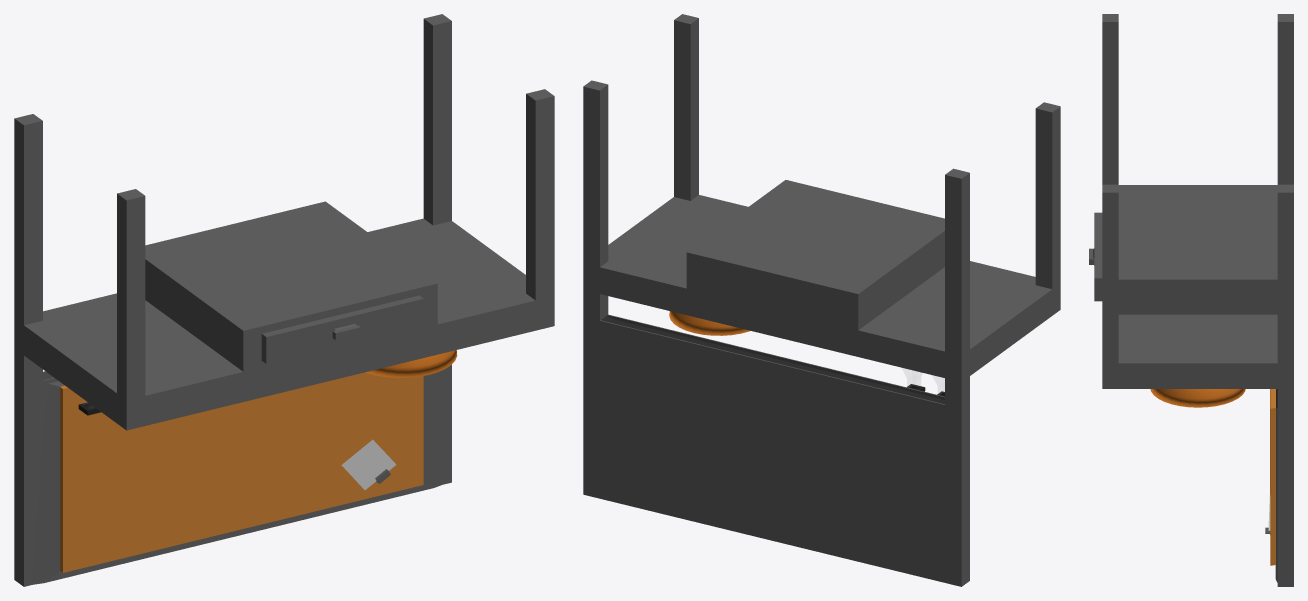
File: CraftingTable.obj
3 views of the same model, side by side, from view 1: azimuth 30°, elevation 25°; view 2: azimuth 150°, elevation 25°; view 3: azimuth 270°, elevation 25° (orthographic). The views are drawn at different scales.
Visible parts, largest first — view 1: Cube; view 2: Cube; view 3: Cube.
Part boxes in pixels (x1,y1,x2,y2): Cube: (14, 14, 554, 586); Cube: (583, 14, 1060, 586); Cube: (1089, 14, 1293, 586).
Bounding box in the file's own units: 4.41 × 4.54 × 2.14.
